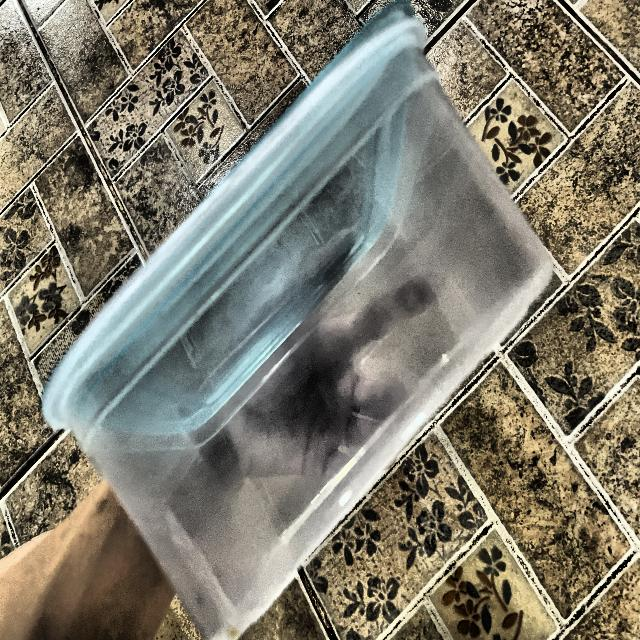plastic container: (71, 24, 562, 576)
